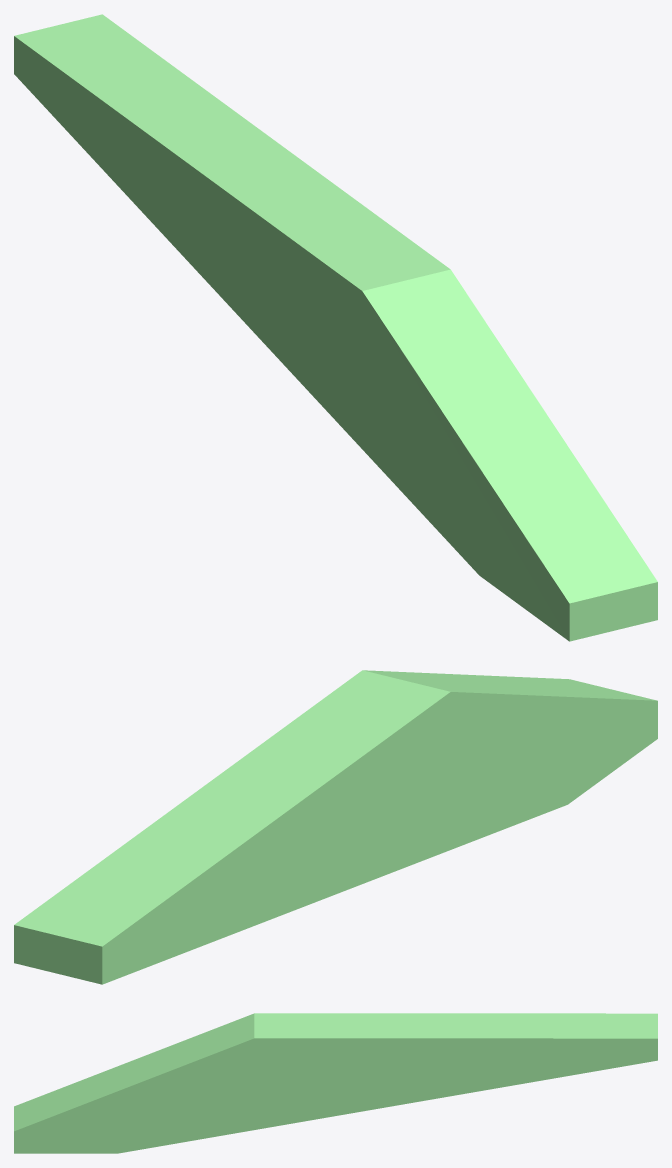
The model's file is dvkr_robot_Lp1_respondable_PSM2_coll_5.dae.
The picture shows the model from 3 angles, top to bottom: view 1: azimuth 30°, elevation 25°; view 2: azimuth 150°, elevation 25°; view 3: azimuth 270°, elevation 25°; orthographic projection. The views are drawn at different scales.
Parts seen in each view (by area): view 1: Node_0000023514CDA040; view 2: Node_0000023514CDA040; view 3: Node_0000023514CDA040.
Boxes of the visible parts, <box> form: Node_0000023514CDA040: <box>14,14,657,641</box>; Node_0000023514CDA040: <box>14,670,657,984</box>; Node_0000023514CDA040: <box>14,1013,657,1153</box>.
Bounding box in the file's own units: 0.0171 × 0.0365 × 0.185.
